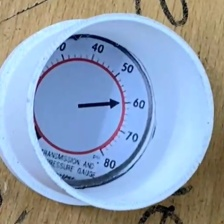gauge: (33, 37, 152, 186)
